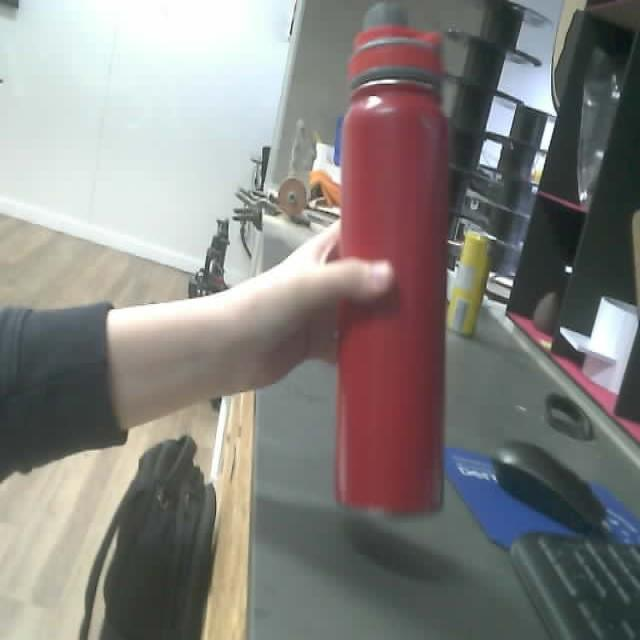water bottle: (338, 24, 451, 517)
